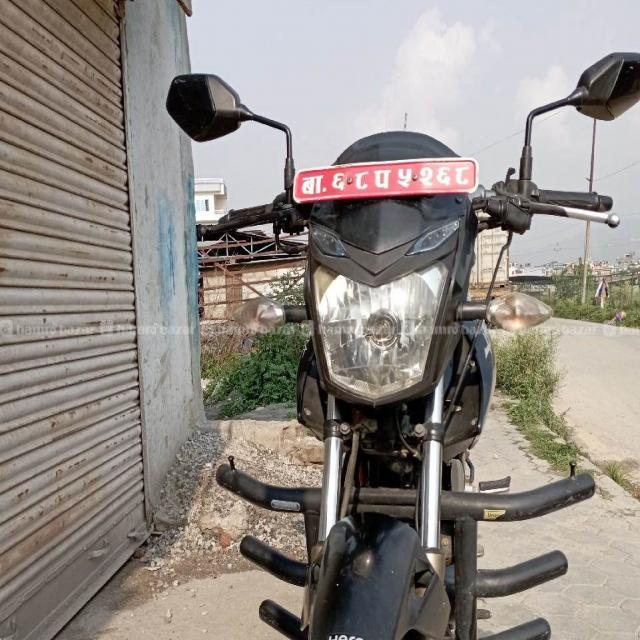License-plate: (285, 162, 485, 198)
